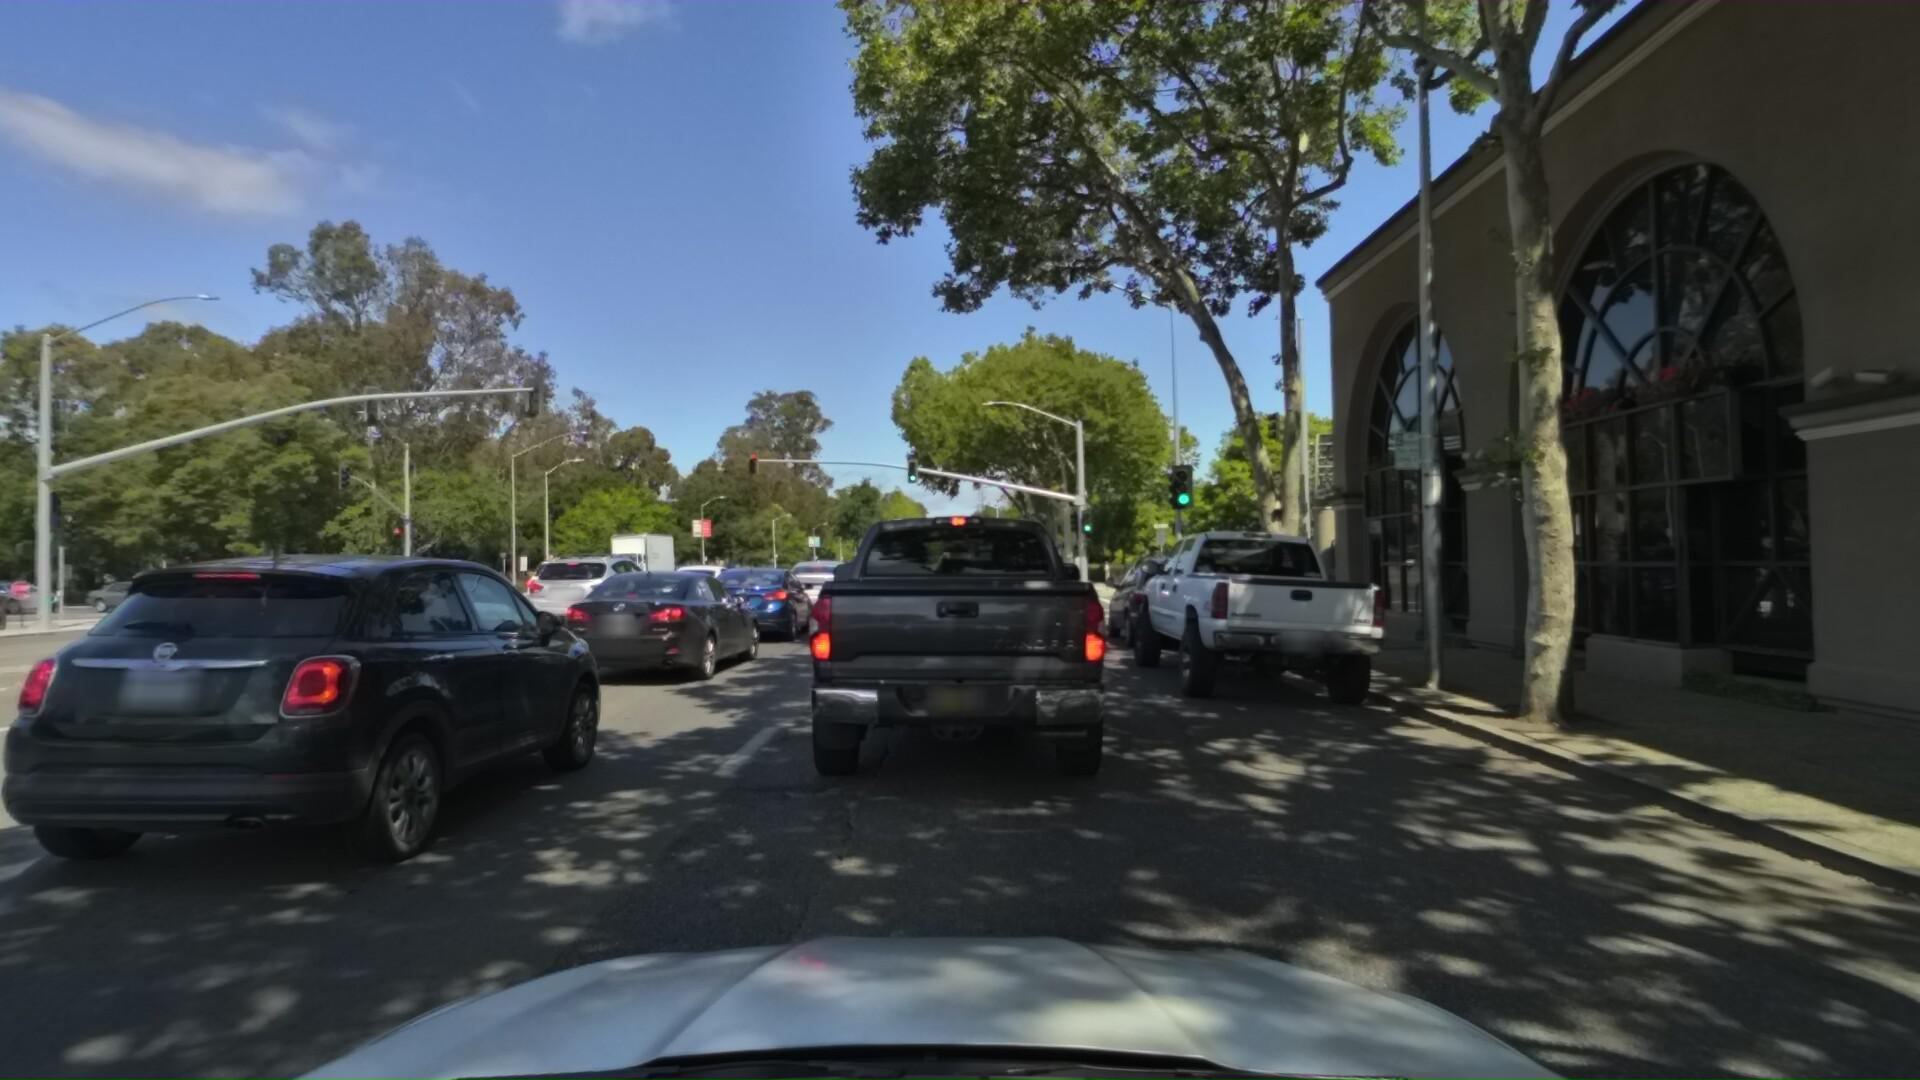car: (0, 517, 640, 934), (785, 436, 1145, 836), (1118, 509, 1408, 713), (543, 556, 771, 696), (372, 563, 595, 675), (945, 535, 1083, 673), (1091, 541, 1247, 651), (524, 537, 662, 632), (684, 556, 819, 650), (187, 567, 342, 629), (146, 568, 295, 624), (521, 541, 645, 607), (779, 553, 866, 622), (82, 566, 215, 605), (662, 551, 744, 609), (287, 553, 392, 591), (0, 566, 84, 609)
truck: (592, 520, 680, 583)
